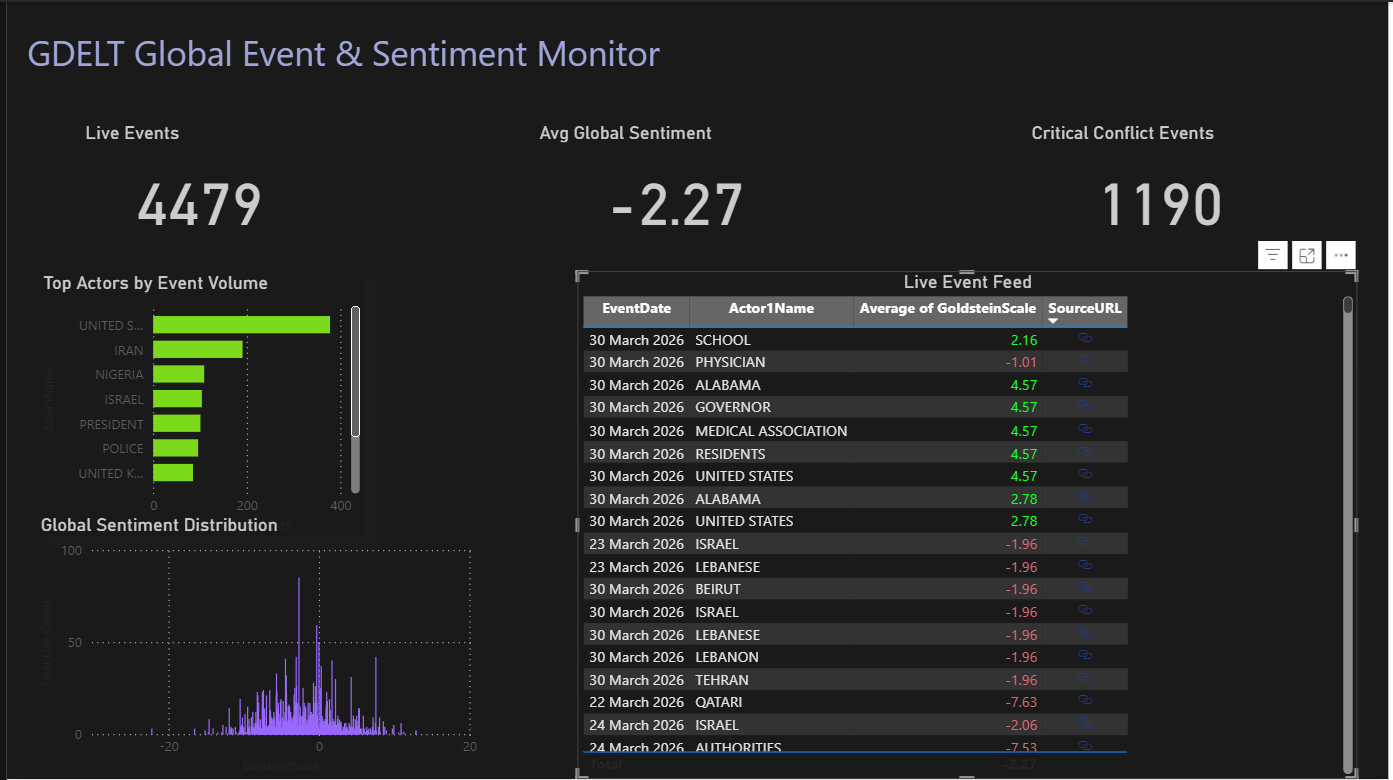

The page's visual inventory and layout, read from the dashboard file:
{"tool":"powerbi","page":{"name":"Page 1","canvas":[1280,720],"ordinal":0},"visuals":[{"type":"card","title":"Live Events ","fields":{"Values":["gdelt_live_events.Total Live Events"]},"box":[68.3,111.7,221.7,120],"z":0},{"type":"card","title":"Avg Global Sentiment","fields":{"Values":["gdelt_live_events.Avg Global Sentiment"]},"box":[488.3,111.7,261.7,120],"z":1000},{"type":"card","title":"Critical Conflict Events","fields":{"Values":["gdelt_live_events.Critical Conflict Events"]},"box":[945,111.7,248.3,120],"z":2000},{"type":"clusteredBarChart","title":"Top Actors by Event Volume","fields":{"Category":["gdelt_live_events.Actor1Name"],"Y":["gdelt_live_events.Total Live Events"]},"box":[28.3,250,303.3,245],"z":3000},{"type":"clusteredColumnChart","title":"Global Sentiment Distribution","fields":{"Category":["gdelt_live_events.GoldsteinScale"],"Y":["gdelt_live_events.Total Live Events"]},"box":[26.7,475,415,245],"z":4000},{"type":"tableEx","title":"Live Event Feed","fields":{"Values":["gdelt_live_events.EventDate","gdelt_live_events.Actor1Name","Avg(gdelt_live_events.GoldsteinScale)","gdelt_live_events.SourceURL"]},"box":[528.1,249.7,723.7,470.8],"z":5000},{"type":"textbox","box":[13.3,20,635,91.7],"z":6000}]}

Visuals, with their boxes in screenshot pixels (x1, y1, x2, y2), scaled from the page's 1280x720 canvas onto the 1393x780 screenshot:
"Live Events " card: left=74, top=121, right=316, bottom=251
"Avg Global Sentiment" card: left=531, top=121, right=816, bottom=251
"Critical Conflict Events" card: left=1028, top=121, right=1299, bottom=251
"Top Actors by Event Volume" clusteredBarChart: left=31, top=271, right=361, bottom=536
"Global Sentiment Distribution" clusteredColumnChart: left=29, top=515, right=481, bottom=779
"Live Event Feed" tableEx: left=575, top=271, right=1362, bottom=779
textbox: left=14, top=22, right=706, bottom=121
